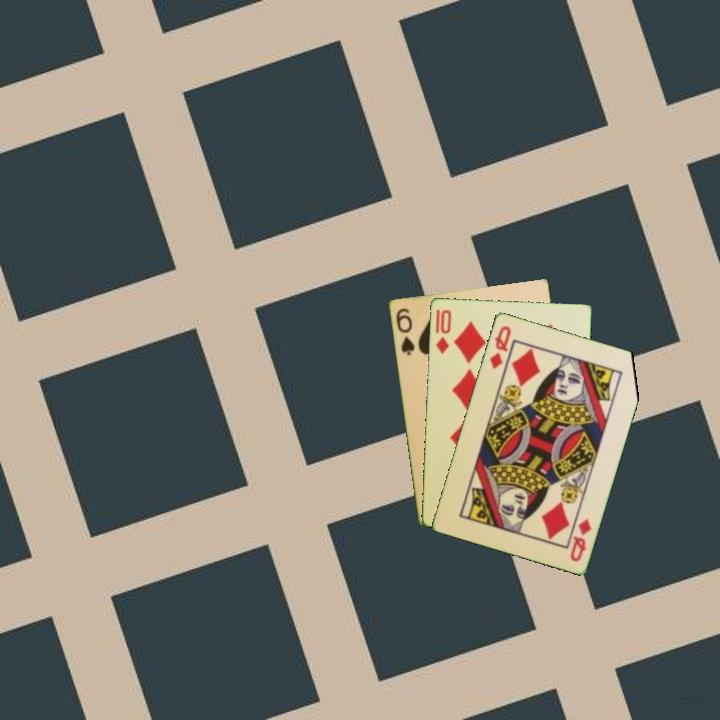10d: (432, 306, 454, 356)
6s: (392, 304, 417, 358)
Qd: (566, 514, 594, 564), (486, 322, 514, 371)
